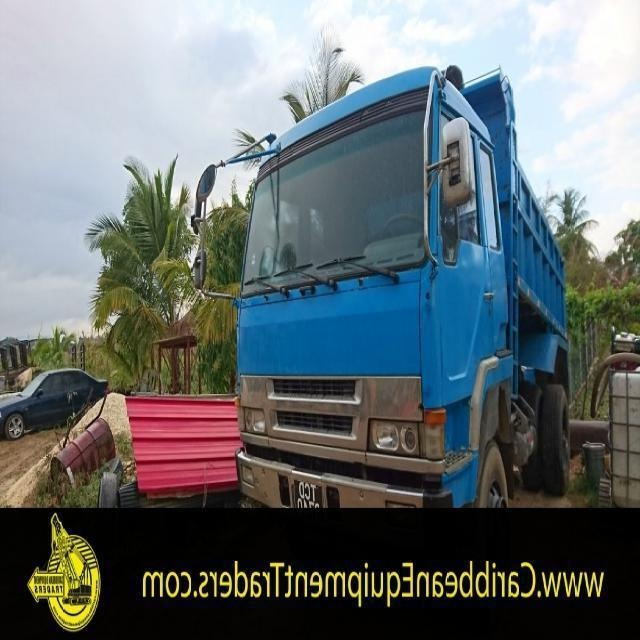Truck: (236, 62, 575, 506)
